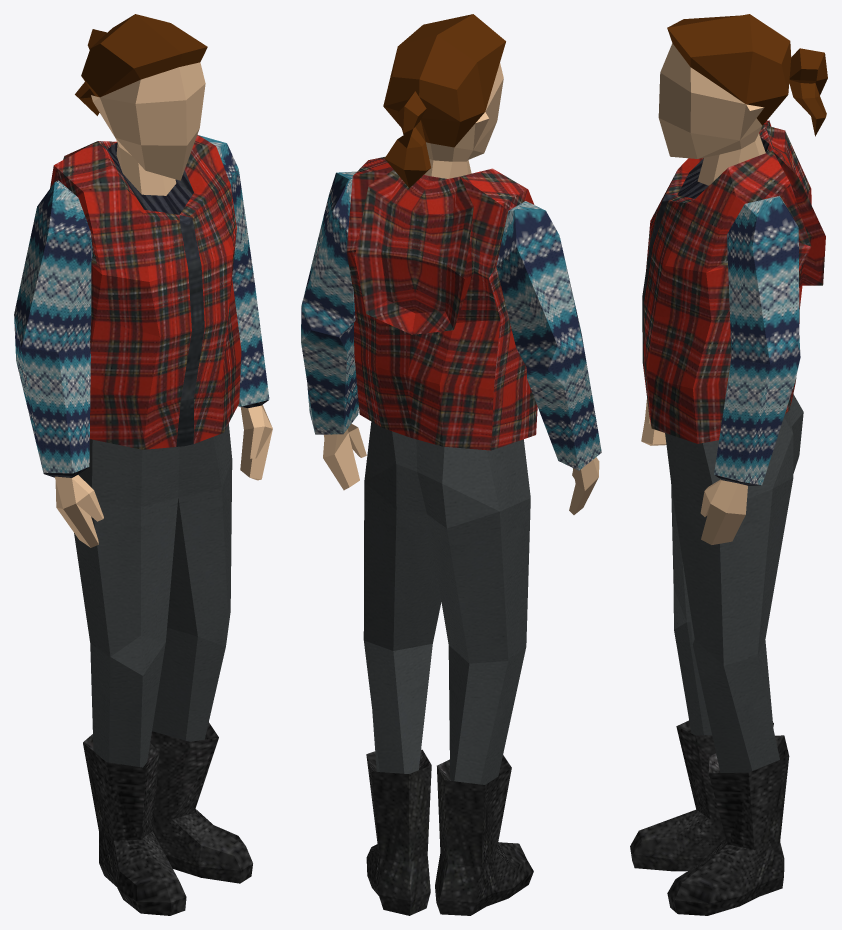
File: AutumnGirl.010.glb
3 renders of one model, left to right at view 1: azimuth 30°, elevation 25°; view 2: azimuth 150°, elevation 25°; view 3: azimuth 270°, elevation 25°, orthographic. The views are drawn at different scales.
Parts seen in each view (by area): view 1: AutumnGirl.010; view 2: AutumnGirl.010; view 3: AutumnGirl.010.
Boxes of the visible parts, x1,y1,x2,y2 form: AutumnGirl.010: (14, 14, 272, 915); AutumnGirl.010: (301, 14, 601, 915); AutumnGirl.010: (630, 14, 827, 915).
Bounding box in the file's own units: 0.5472 × 1.74 × 0.3623.
1 material, 1 textured.
